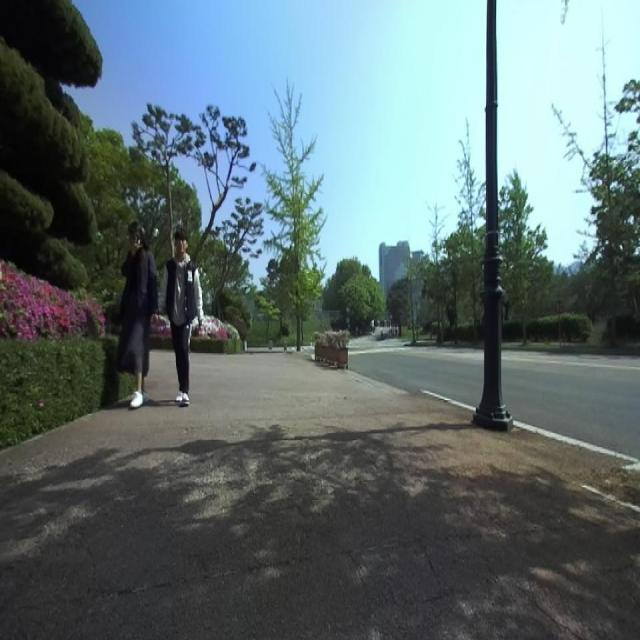sidewalk: (0, 352, 640, 639)
